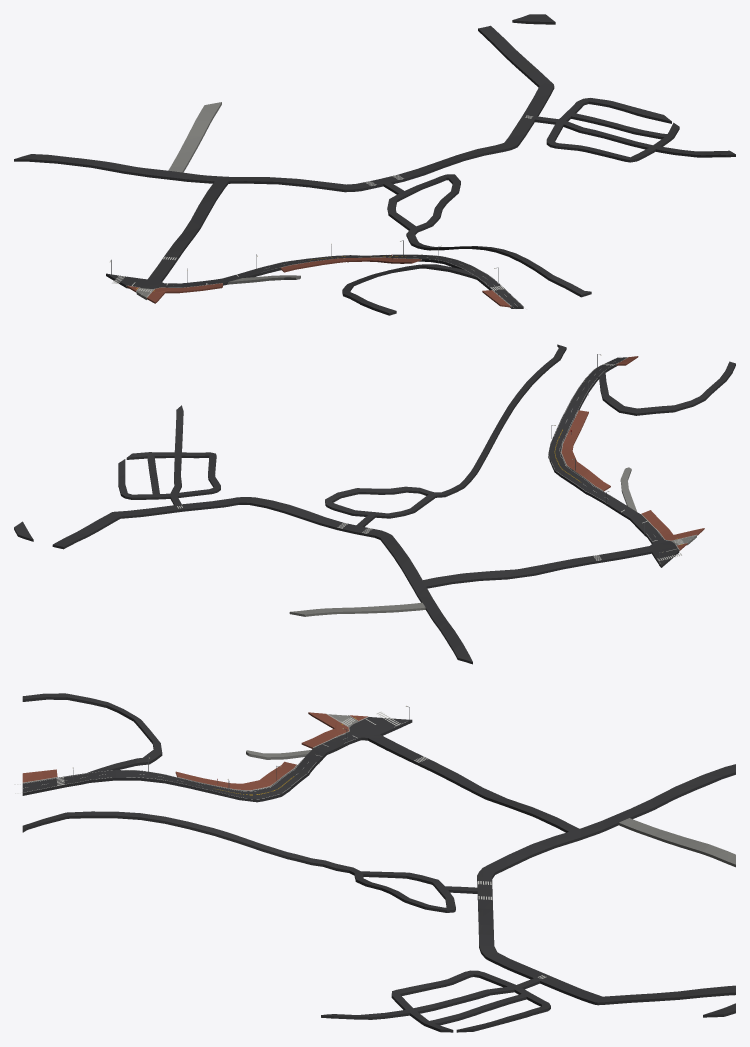
3 views of the same model, one above another, from view 1: azimuth 30°, elevation 25°; view 2: azimuth 150°, elevation 25°; view 3: azimuth 270°, elevation 25° (orthographic). The views are drawn at different scales.
Size of the model in its own units: 298 by 41.36 by 295.
